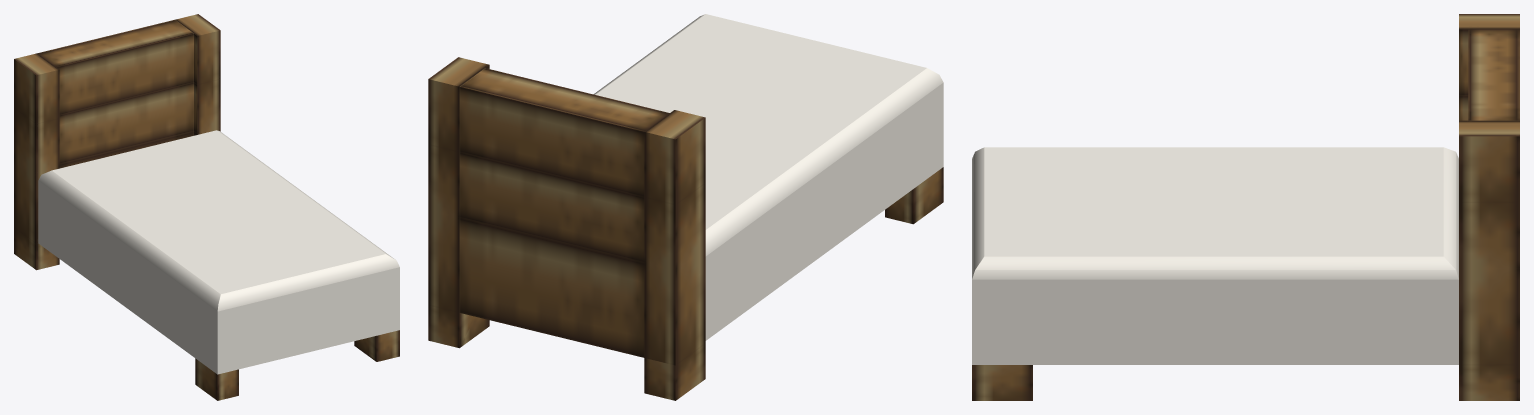
Rendered from Inside_Poly_Bed_02_Without_Blanket.obj.
3 views of the same model, side by side, from view 1: azimuth 30°, elevation 25°; view 2: azimuth 150°, elevation 25°; view 3: azimuth 270°, elevation 25° (orthographic). The views are drawn at different scales.
Visible parts, largest first — view 1: Cube.001, Cube.002; view 2: Cube.002, Cube.001; view 3: Cube.001, Cube.002.
Part boxes in pixels (box(x1,y1,x2,y2)): Cube.001: box(38, 130, 399, 374); Cube.002: box(14, 14, 399, 400); Cube.002: box(428, 57, 943, 400); Cube.001: box(593, 14, 943, 340); Cube.001: box(972, 147, 1458, 364); Cube.002: box(972, 14, 1519, 400).
Bounding box in the file's own units: 0.95 × 0.96 × 1.8.
1 material, 1 textured.
